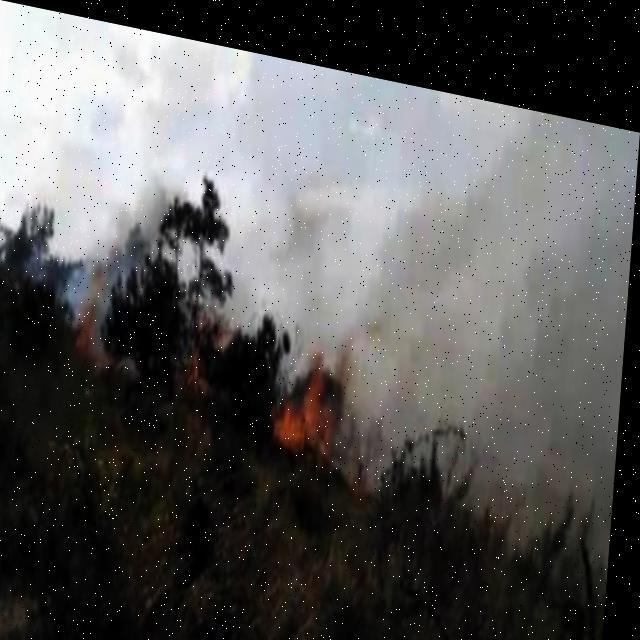Fire: (280, 336, 352, 453), (76, 259, 116, 360), (192, 302, 234, 388)
